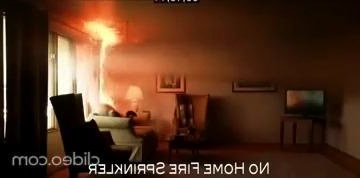fire: (78, 3, 137, 106)
